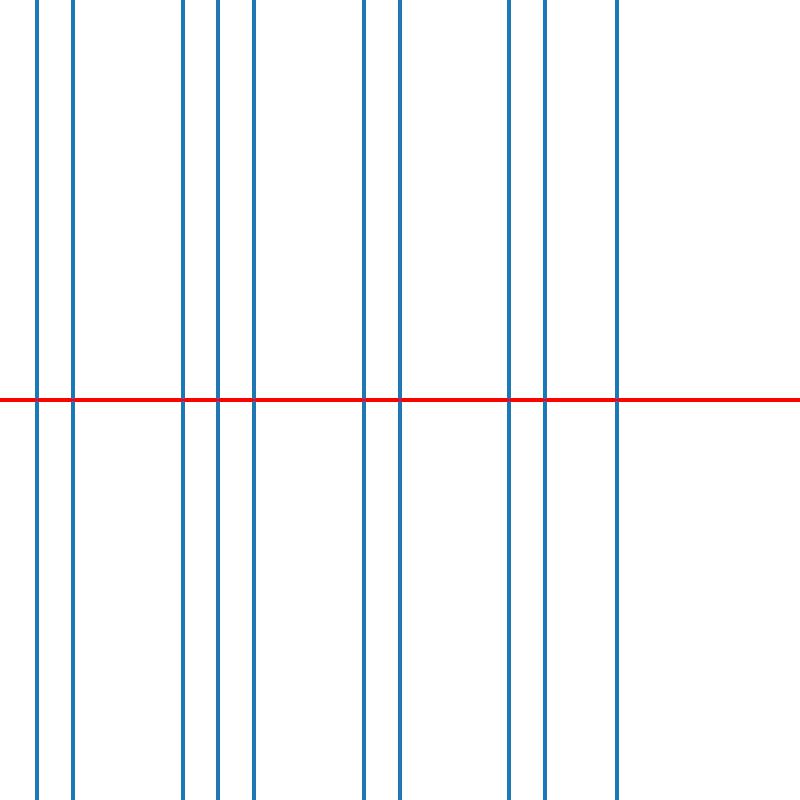root: (541, 396, 549, 404), (32, 396, 40, 404), (250, 396, 258, 404), (360, 396, 367, 404), (505, 396, 512, 404), (614, 396, 621, 404), (214, 396, 221, 404), (178, 396, 185, 404), (396, 396, 403, 404), (69, 396, 76, 404)
